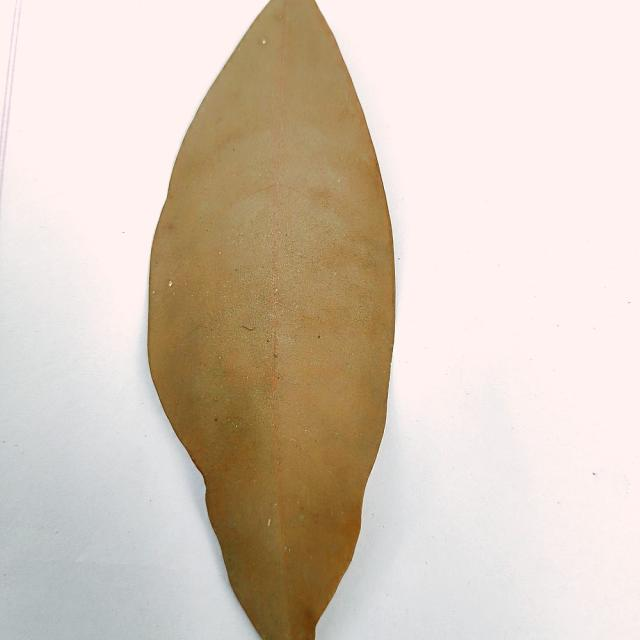Dry_Leaf-Lychee: (146, 0, 397, 639)
